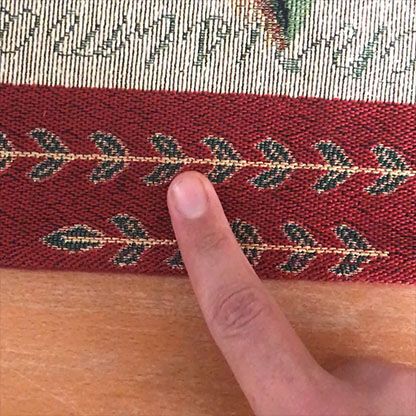fingertip: (153, 163, 231, 242)
